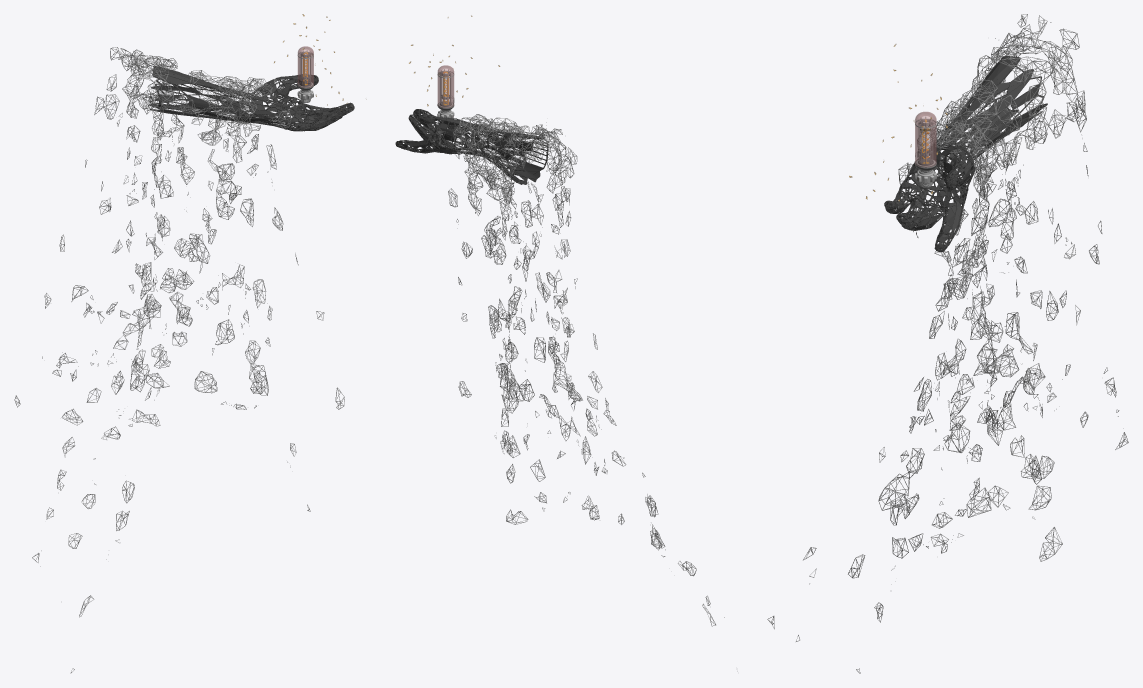
Rendered from energy.glb.
3 views of the same model, side by side, from view 1: azimuth 30°, elevation 25°; view 2: azimuth 150°, elevation 25°; view 3: azimuth 270°, elevation 25° (orthographic). The views are drawn at different scales.
Visible parts, largest first — view 1: Hand_24, Glass_1_22; view 2: Hand_24, Glass_1_22; view 3: Hand_24, Glass_1_22.
Boxes of the visible parts, x1,y1,x2,y2 form: Hand_24: [14, 47, 354, 673]; Glass_1_22: [298, 46, 313, 87]; Hand_24: [395, 109, 737, 671]; Glass_1_22: [437, 65, 453, 107]; Hand_24: [767, 14, 1128, 673]; Glass_1_22: [915, 112, 936, 167].
Bounding box in the file's own units: 18.13 × 33.19 × 13.73.
14 materials, 3 textured.
